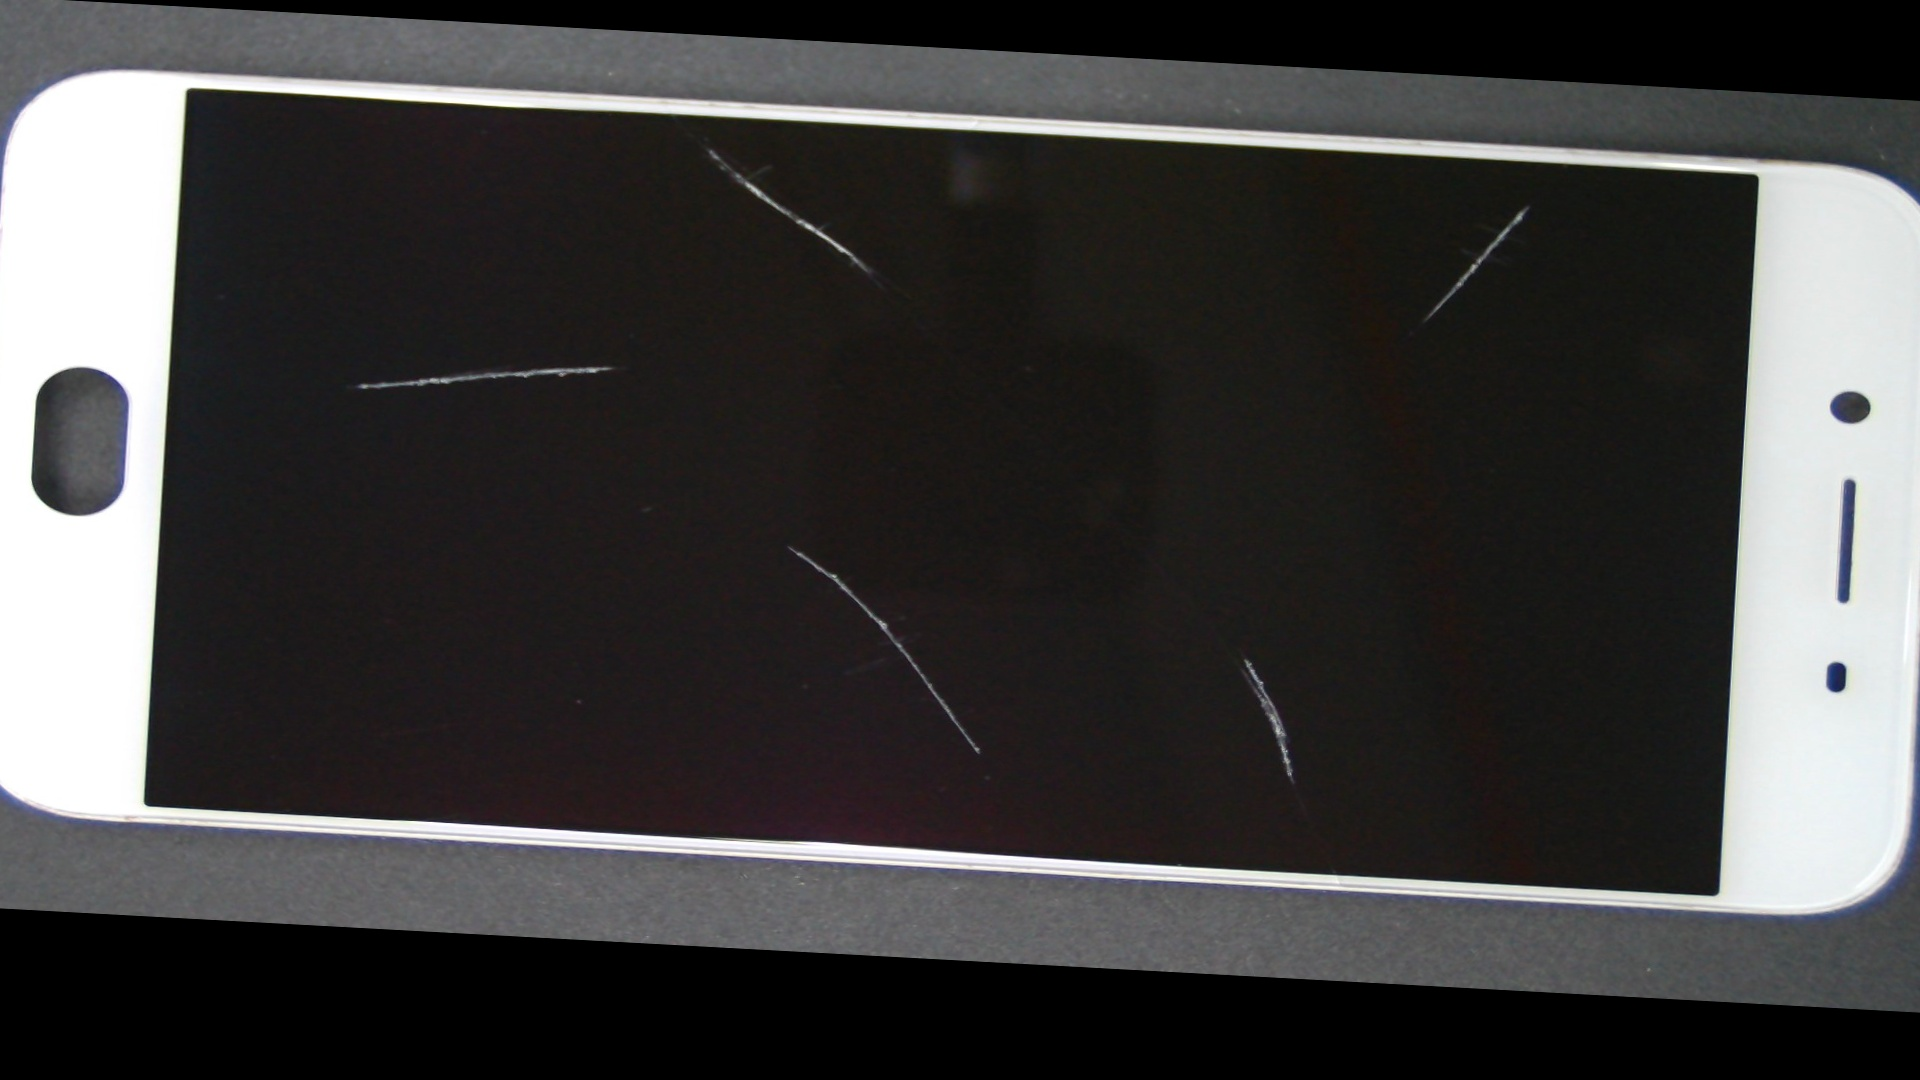oil: (578, 327, 1915, 992), (352, 270, 1224, 822), (276, 181, 953, 551), (744, 100, 1920, 293), (334, 71, 1080, 225)
